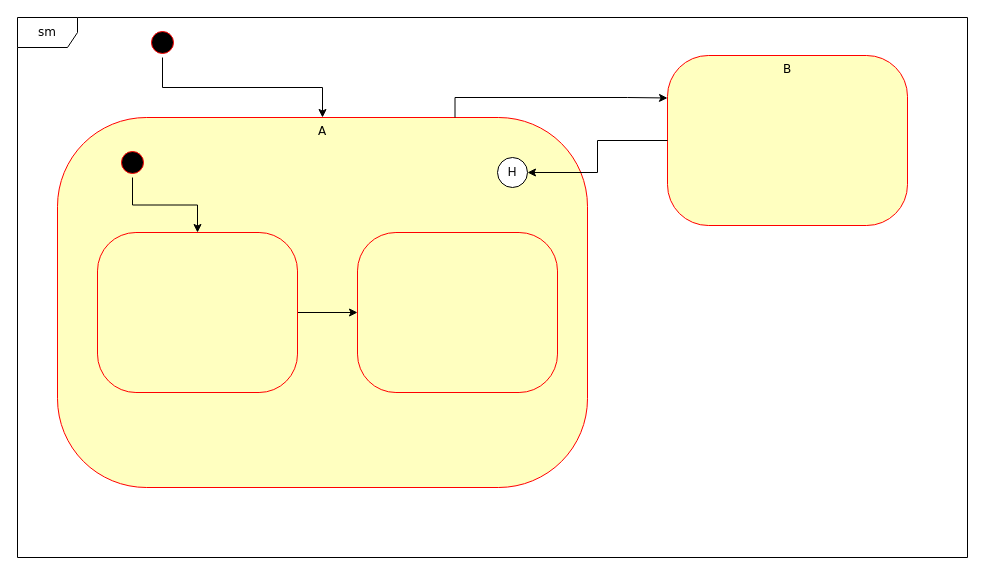
Image size: 985x575. Some labels were removed from this diagram. The shapes that lost their labels are listed below. From the top down, each one's centre as x and y in pixels, then its label:
At (x=197, y=312): "AA".
At (x=457, y=312): "AB".
